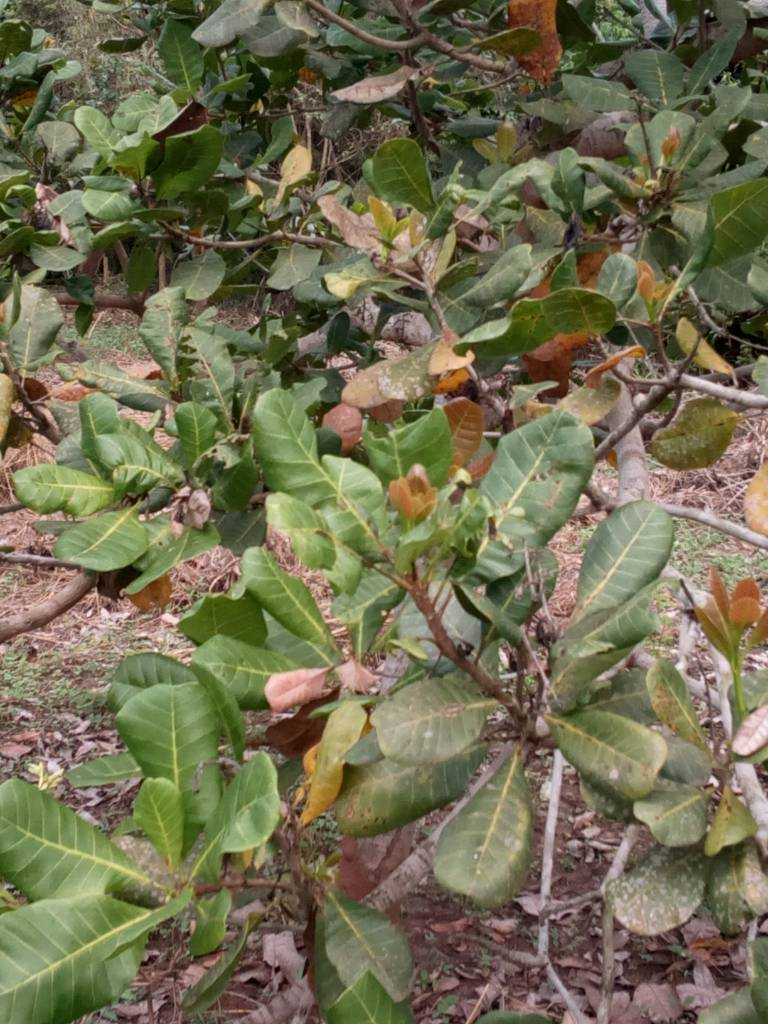Dessèchement des bourgeons: (494, 605, 575, 761)
